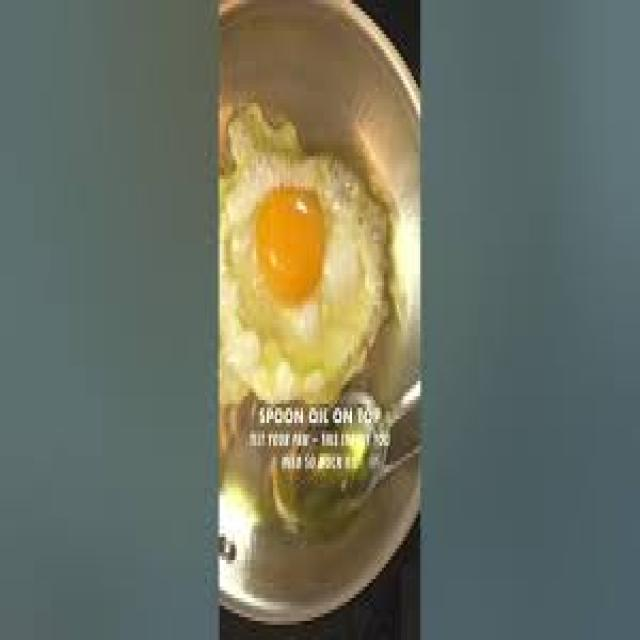Egg: (220, 103, 388, 404)
